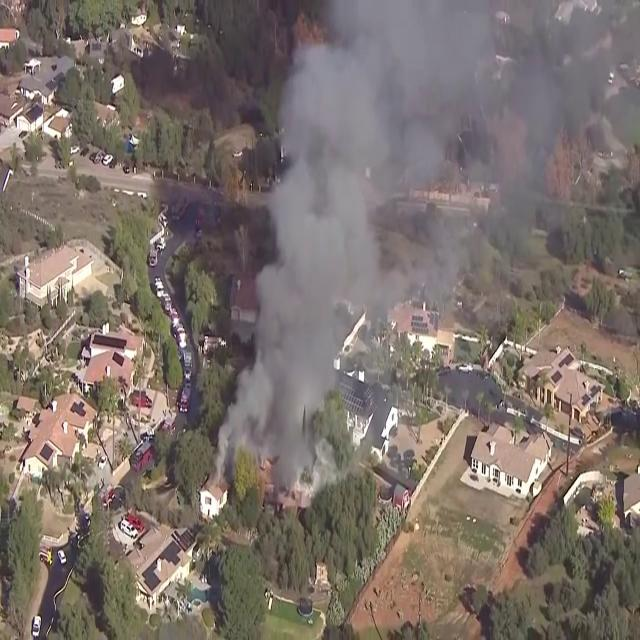Smoke: (221, 0, 588, 494), (220, 0, 464, 492)
